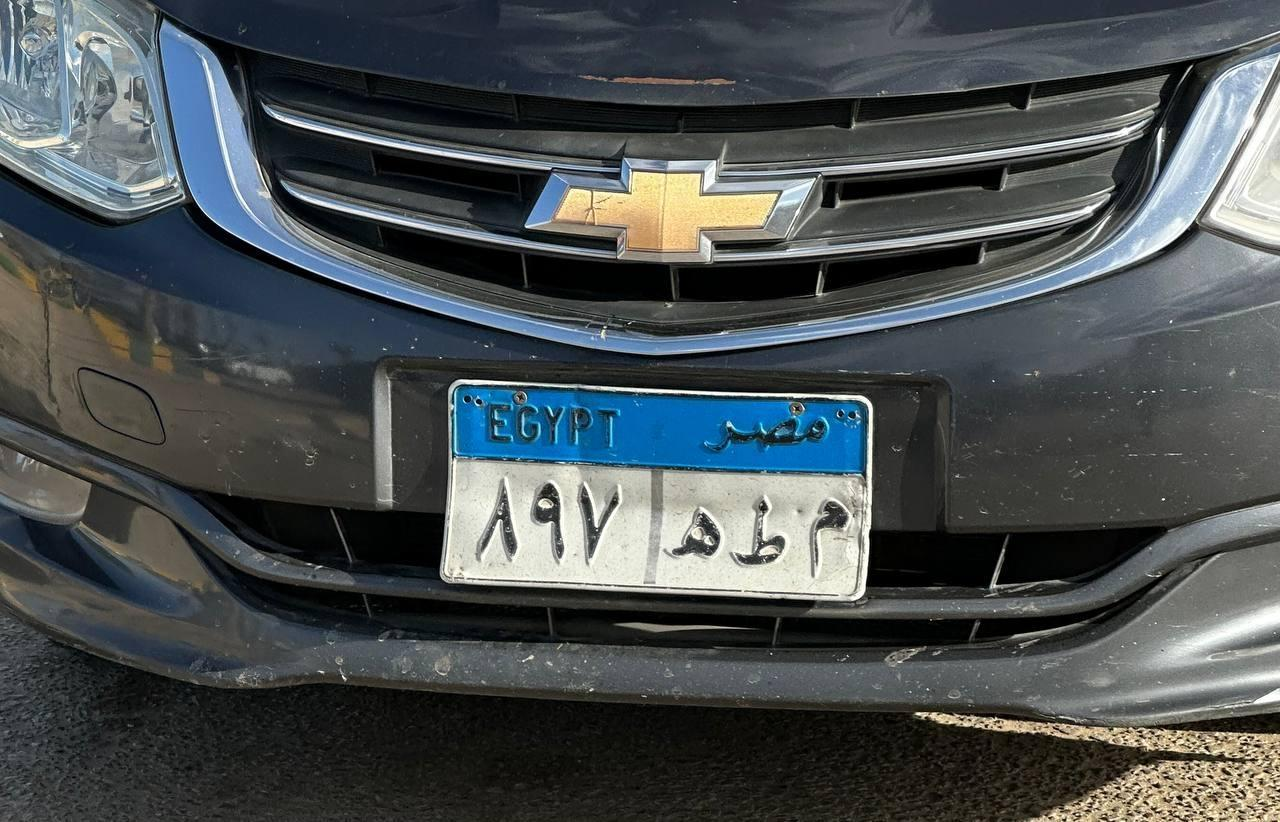7: (574, 482, 622, 556)
8: (470, 478, 521, 554)
9: (528, 472, 567, 566)
Heeh: (662, 502, 726, 567)
License Plate: (433, 388, 877, 598)
Meem: (808, 481, 850, 586)
Taa: (731, 492, 791, 570)
